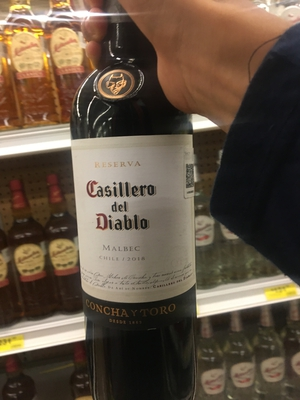casillero del diablo malbec: (67, 41, 215, 400)
